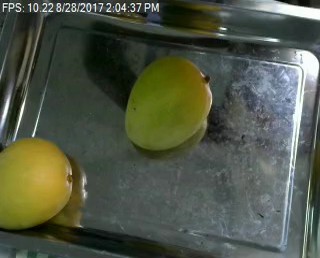Mango: (122, 54, 215, 152), (0, 132, 77, 231)
